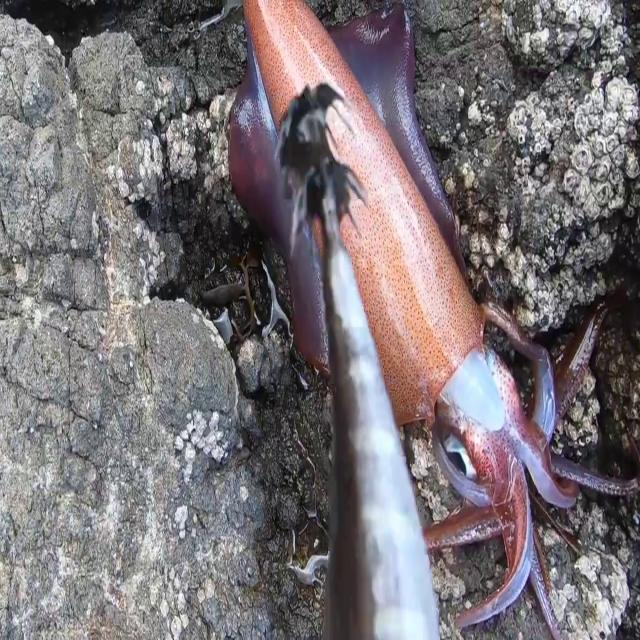SQUID: (188, 0, 606, 593)
